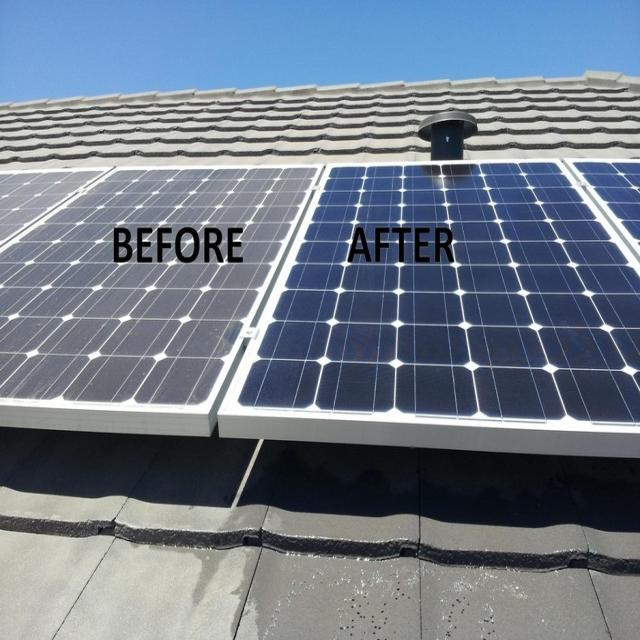dust-solar-panel: (0, 155, 323, 425)
